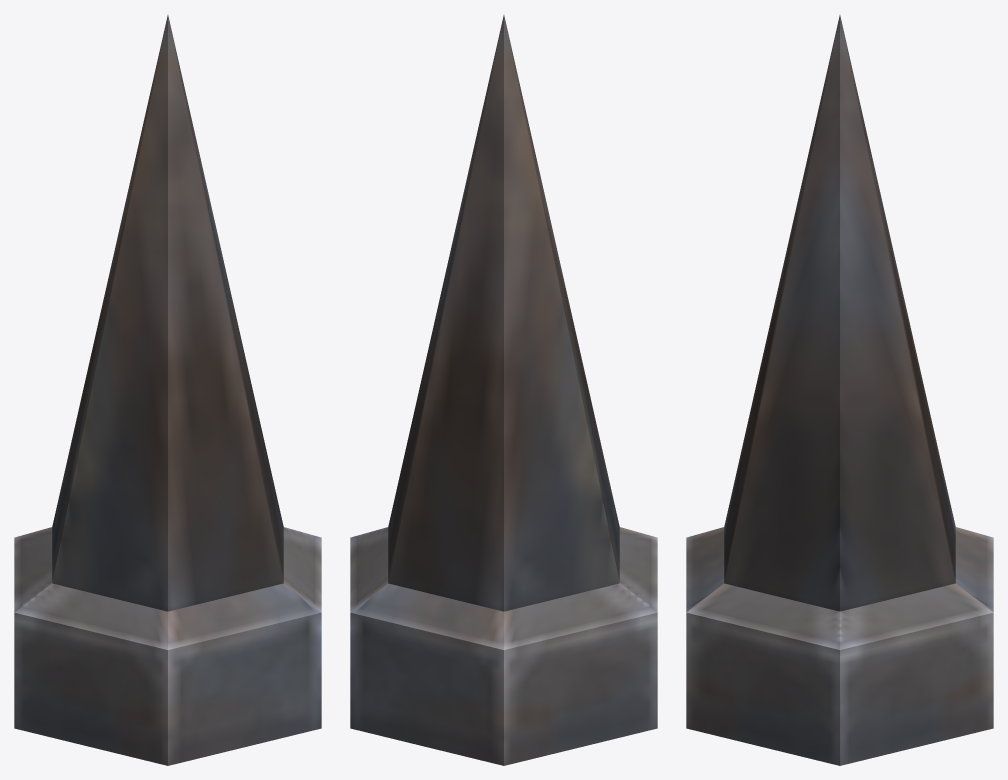
Rendered from all_mine_prop_5_1.FBX.
The picture shows the model from 3 angles, left to right: view 1: azimuth 30°, elevation 25°; view 2: azimuth 150°, elevation 25°; view 3: azimuth 270°, elevation 25°; orthographic projection.
Visible parts, largest first — view 1: all_mine_prop_5; view 2: all_mine_prop_5; view 3: all_mine_prop_5.
Boxes of the visible parts, left/top/right/bottom form: all_mine_prop_5: left=14, top=15, right=321, bottom=765; all_mine_prop_5: left=350, top=15, right=657, bottom=765; all_mine_prop_5: left=686, top=15, right=993, bottom=765.
Size of the model in its own units: 10.29 by 21.65 by 8.91.
